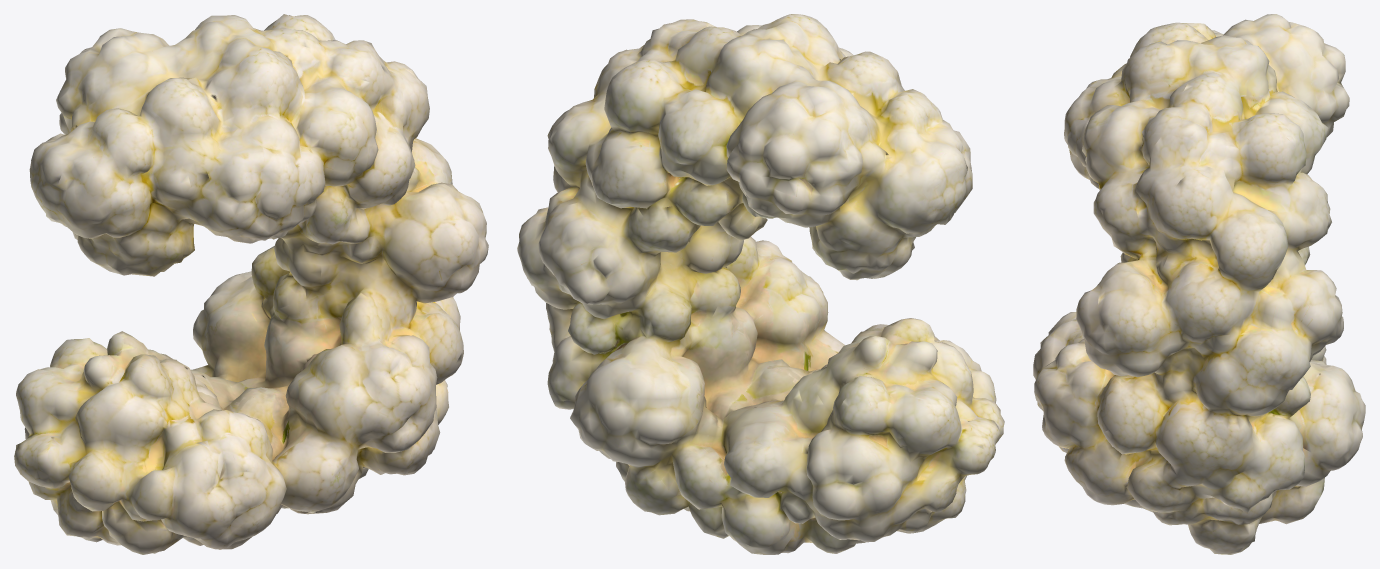
Rendered from Cauliflower_C.glb.
The picture shows the model from 3 angles, left to right: view 1: azimuth 30°, elevation 25°; view 2: azimuth 150°, elevation 25°; view 3: azimuth 270°, elevation 25°; orthographic projection. The views are drawn at different scales.
Bounding box in the file's own units: 1.89 × 2 × 1.3.
Materials: 1 (1 with a texture image).
